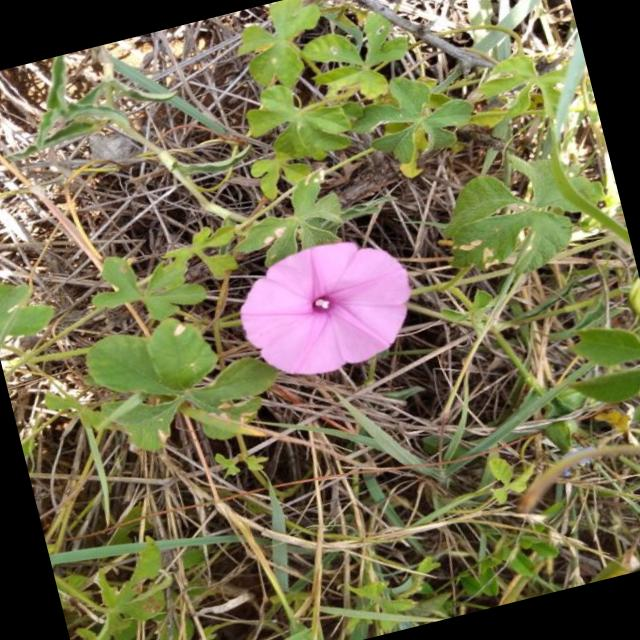ipomoea: (222, 222, 430, 394)
